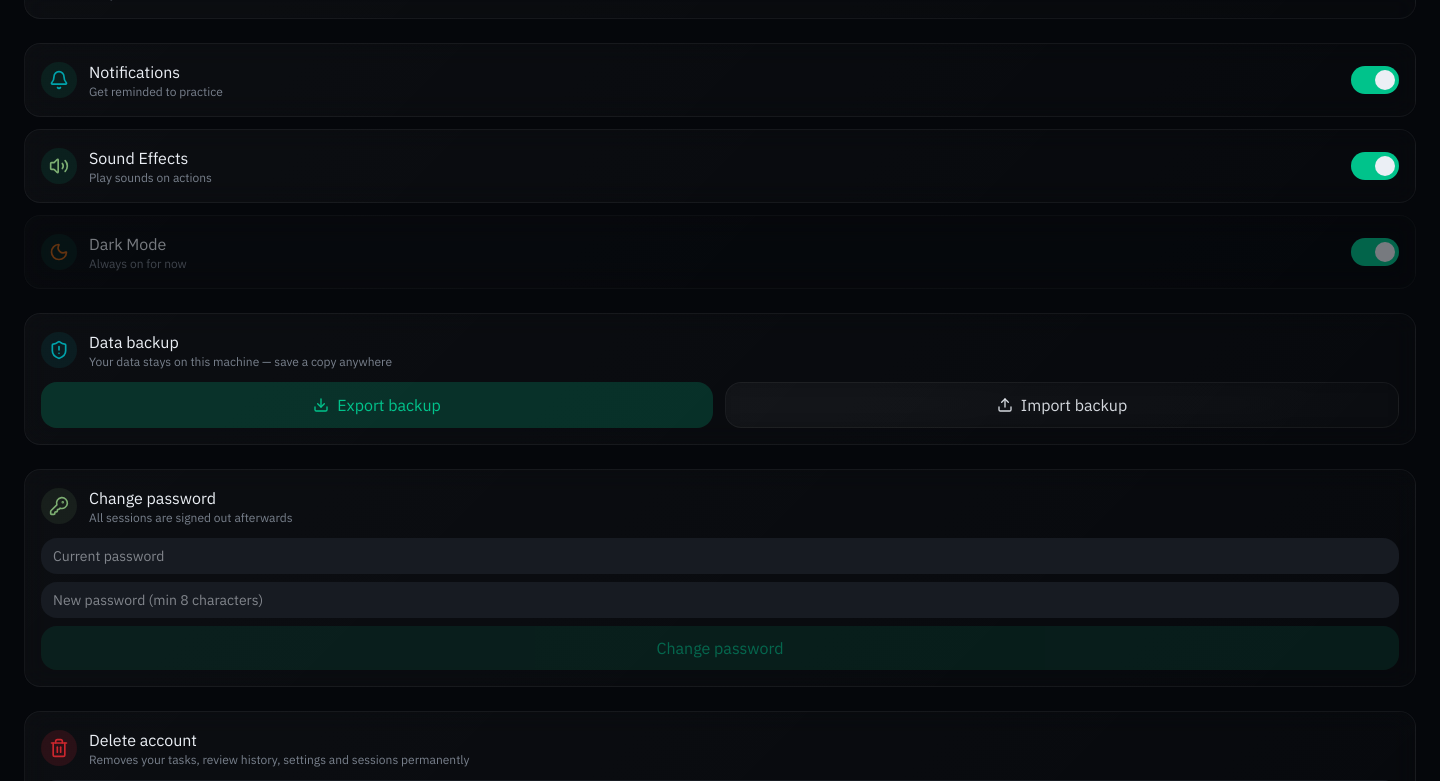
SettingsPanel › exports the backup through the API
The width and height of the screenshot is (1440, 781).
(page scrolled)
Click the button "Export backup": (377, 405) [41,382,713,428]
(page scrolled)
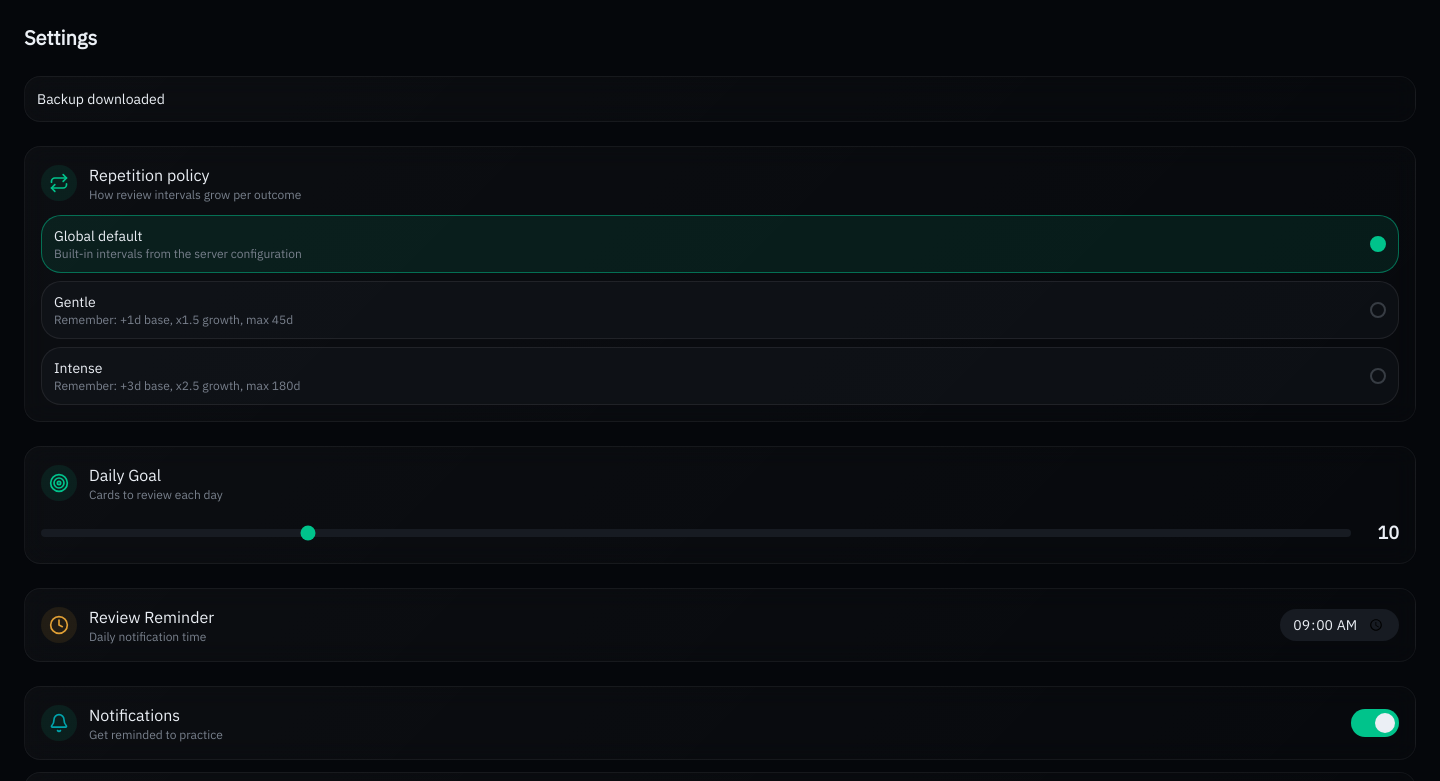
Now the text "Backup downloaded" is shown, box [24,76,1416,122]
